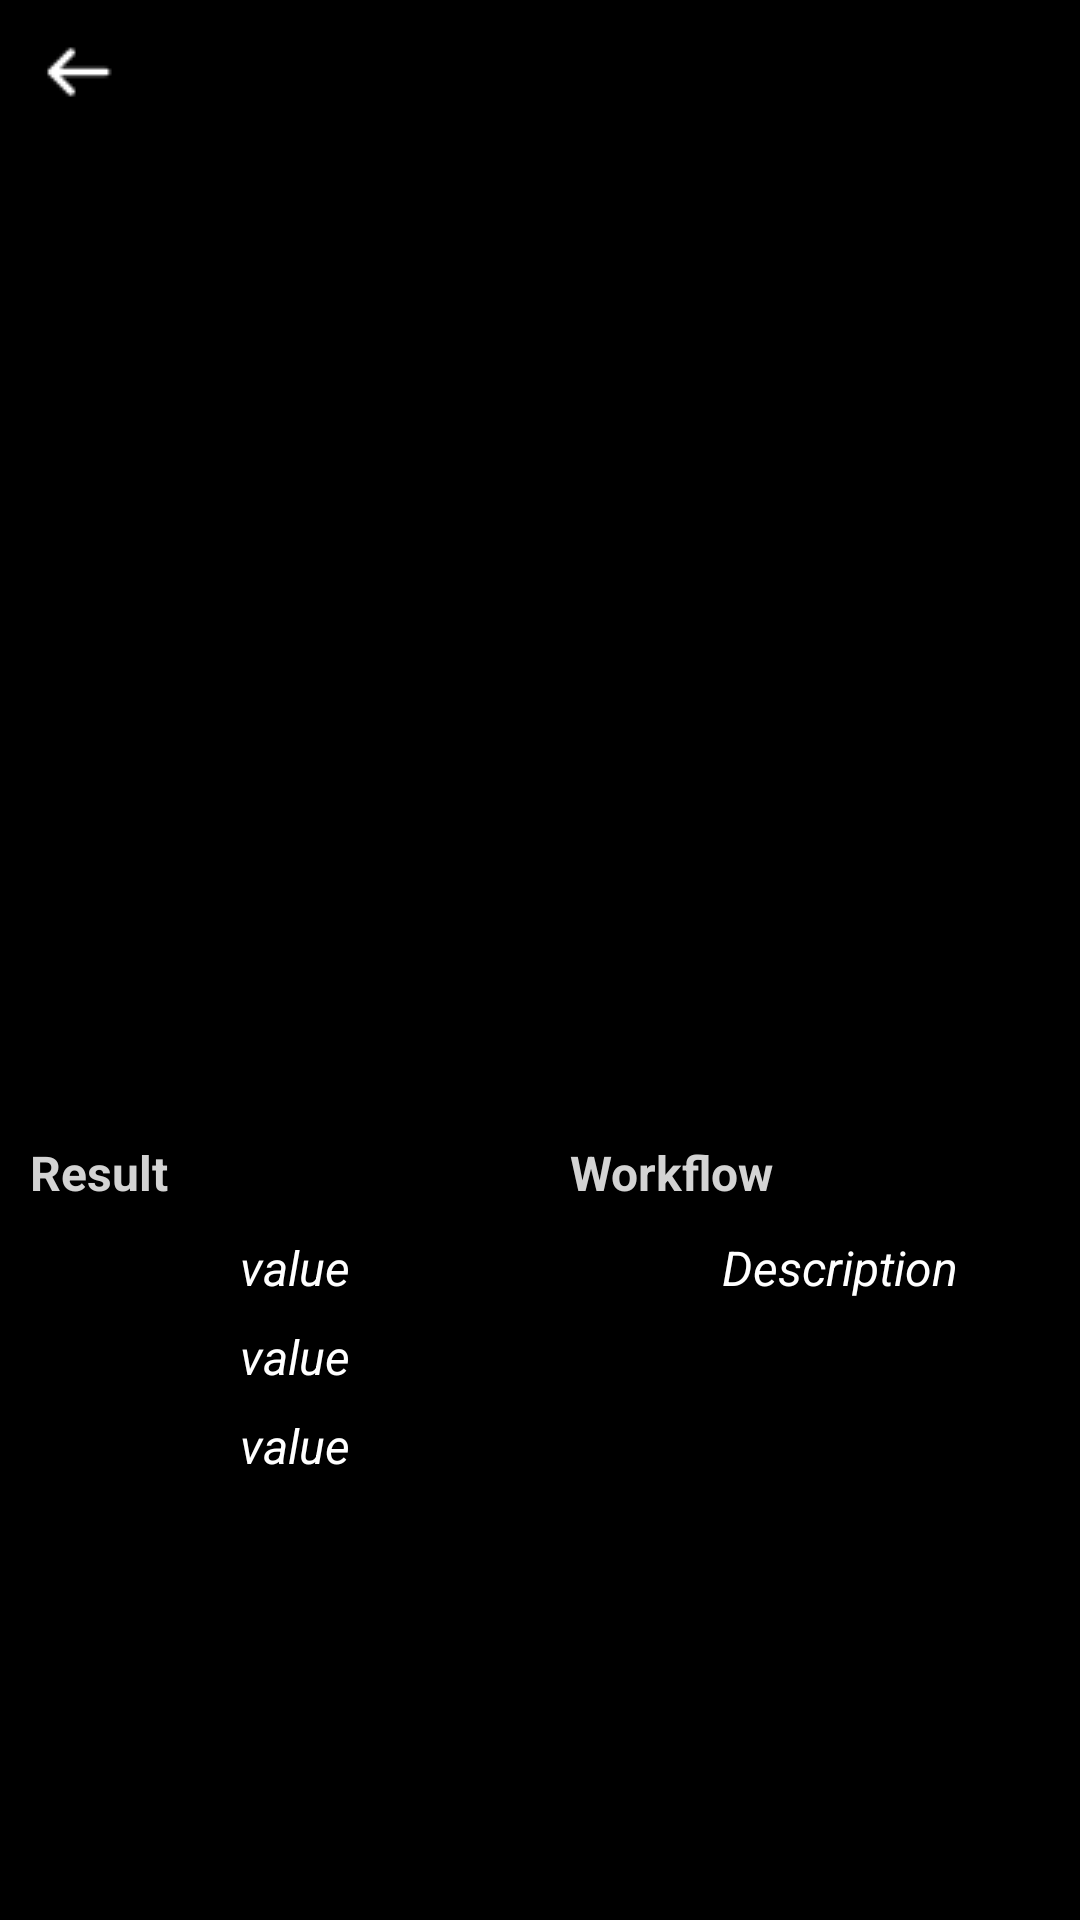

Icon bounding boxes for this 1080×1920 phone screenshot, format (x1, y1, x2, y2):
leftarrow: (47, 47, 112, 97)
